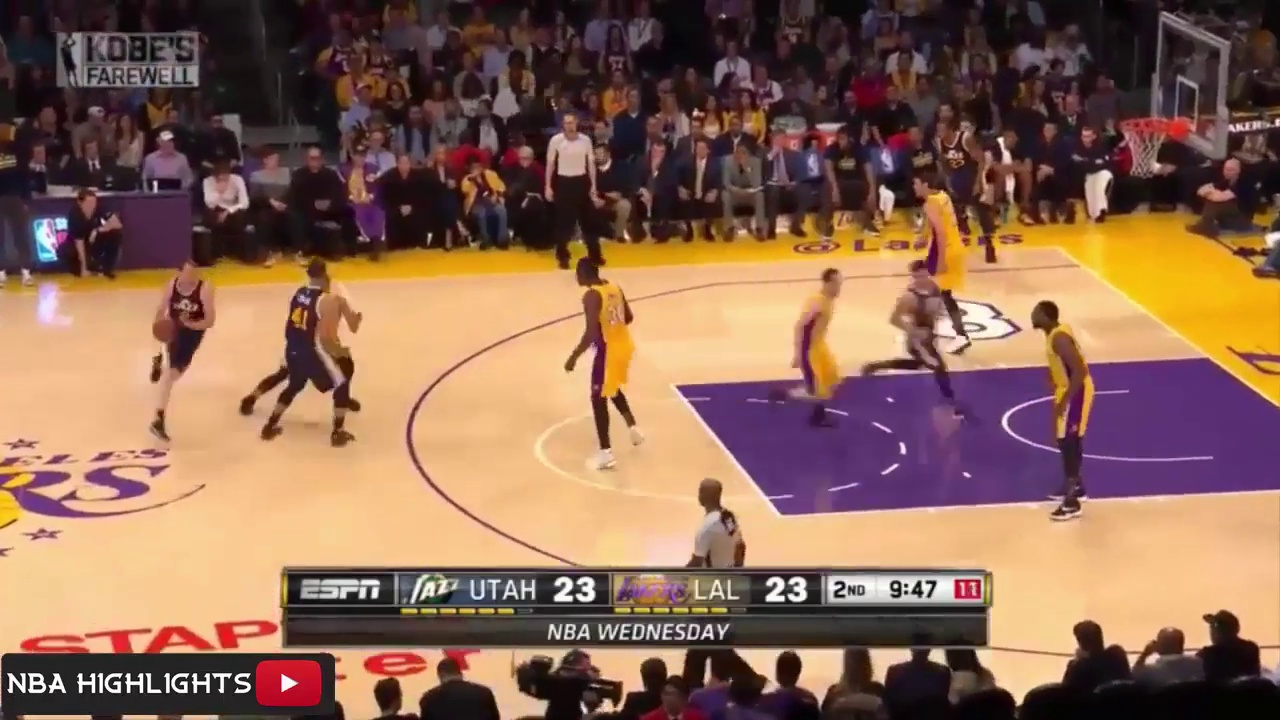jazz: (118, 246, 218, 442), (272, 256, 366, 451), (881, 258, 961, 425), (937, 120, 1017, 243)
lakers: (556, 254, 648, 459), (1026, 295, 1098, 522), (908, 175, 985, 349), (774, 269, 860, 423)
